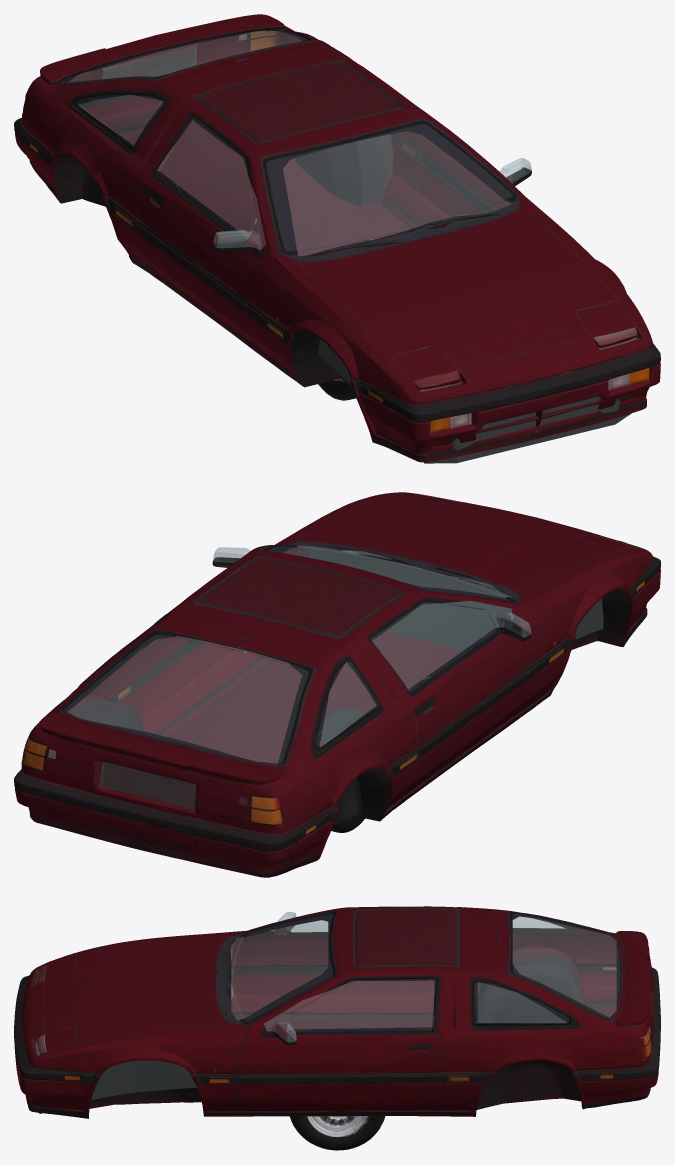
Rendered from coupe-driveable.glb.
3 views of the same model, one above another, from view 1: azimuth 30°, elevation 25°; view 2: azimuth 150°, elevation 25°; view 3: azimuth 270°, elevation 25° (orthographic). The views are drawn at different scales.
Visible parts, largest first — view 1: ExteriorBody, Bonnet, Windshield, DoorFrontL, GlassFrontL, DoorFrontR, RearGlass, EngineCompartment, GlassRearL; view 2: ExteriorBody, RearGlass, Bonnet, DoorFrontL, EngineCompartment, GlassFrontL, DoorFrontR, Windshield, GlassRearL, WheelPrototype; view 3: ExteriorBody, DoorFrontR, Bonnet, DoorFrontL, RearGlass, Windshield, GlassFrontR, EngineCompartment, WheelPrototype, GlassRearR, GlassFrontL.
Boxes of the visible parts, box(x1,y1,x2,y2) form: ExteriorBody: box(14, 14, 660, 462); Bonnet: box(307, 214, 640, 402); Windshield: box(283, 131, 511, 255); DoorFrontL: box(130, 106, 288, 347); GlassFrontL: box(157, 120, 265, 249); DoorFrontR: box(397, 91, 531, 218); RearGlass: box(69, 31, 301, 81); EngineCompartment: box(318, 336, 637, 463); GlassRearL: box(78, 95, 162, 144); ExteriorBody: box(14, 492, 660, 877); RearGlass: box(68, 636, 301, 763); Bonnet: box(307, 493, 639, 589); DoorFrontL: box(357, 591, 545, 789); EngineCompartment: box(308, 546, 603, 650); GlassFrontL: box(372, 601, 531, 688); DoorFrontR: box(129, 545, 287, 723); Windshield: box(283, 545, 510, 597); GlassRearL: box(320, 662, 376, 746); WheelPrototype: box(320, 708, 366, 832); ExteriorBody: box(14, 906, 660, 1118); DoorFrontR: box(234, 974, 451, 1103); Bonnet: box(23, 936, 221, 1056); DoorFrontL: box(234, 907, 434, 999); RearGlass: box(513, 917, 616, 1017); Windshield: box(231, 920, 327, 1020); GlassFrontR: box(264, 981, 433, 1042); EngineCompartment: box(38, 1060, 196, 1113); WheelPrototype: box(289, 1116, 385, 1150); GlassRearR: box(478, 982, 566, 1022); GlassFrontL: box(277, 912, 327, 931).
Size of the model in its own units: 2.04 by 1.63 by 4.52.
6 materials, 2 textured.
